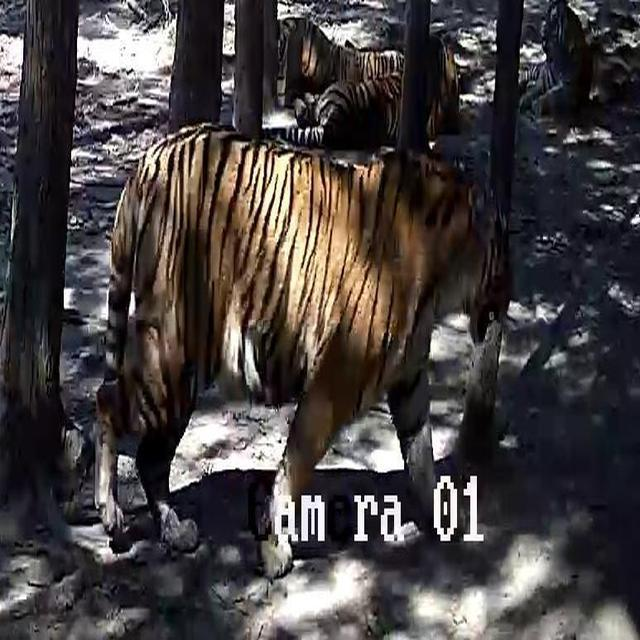tiger: (79, 113, 525, 566), (260, 4, 478, 148), (524, 0, 640, 122)
